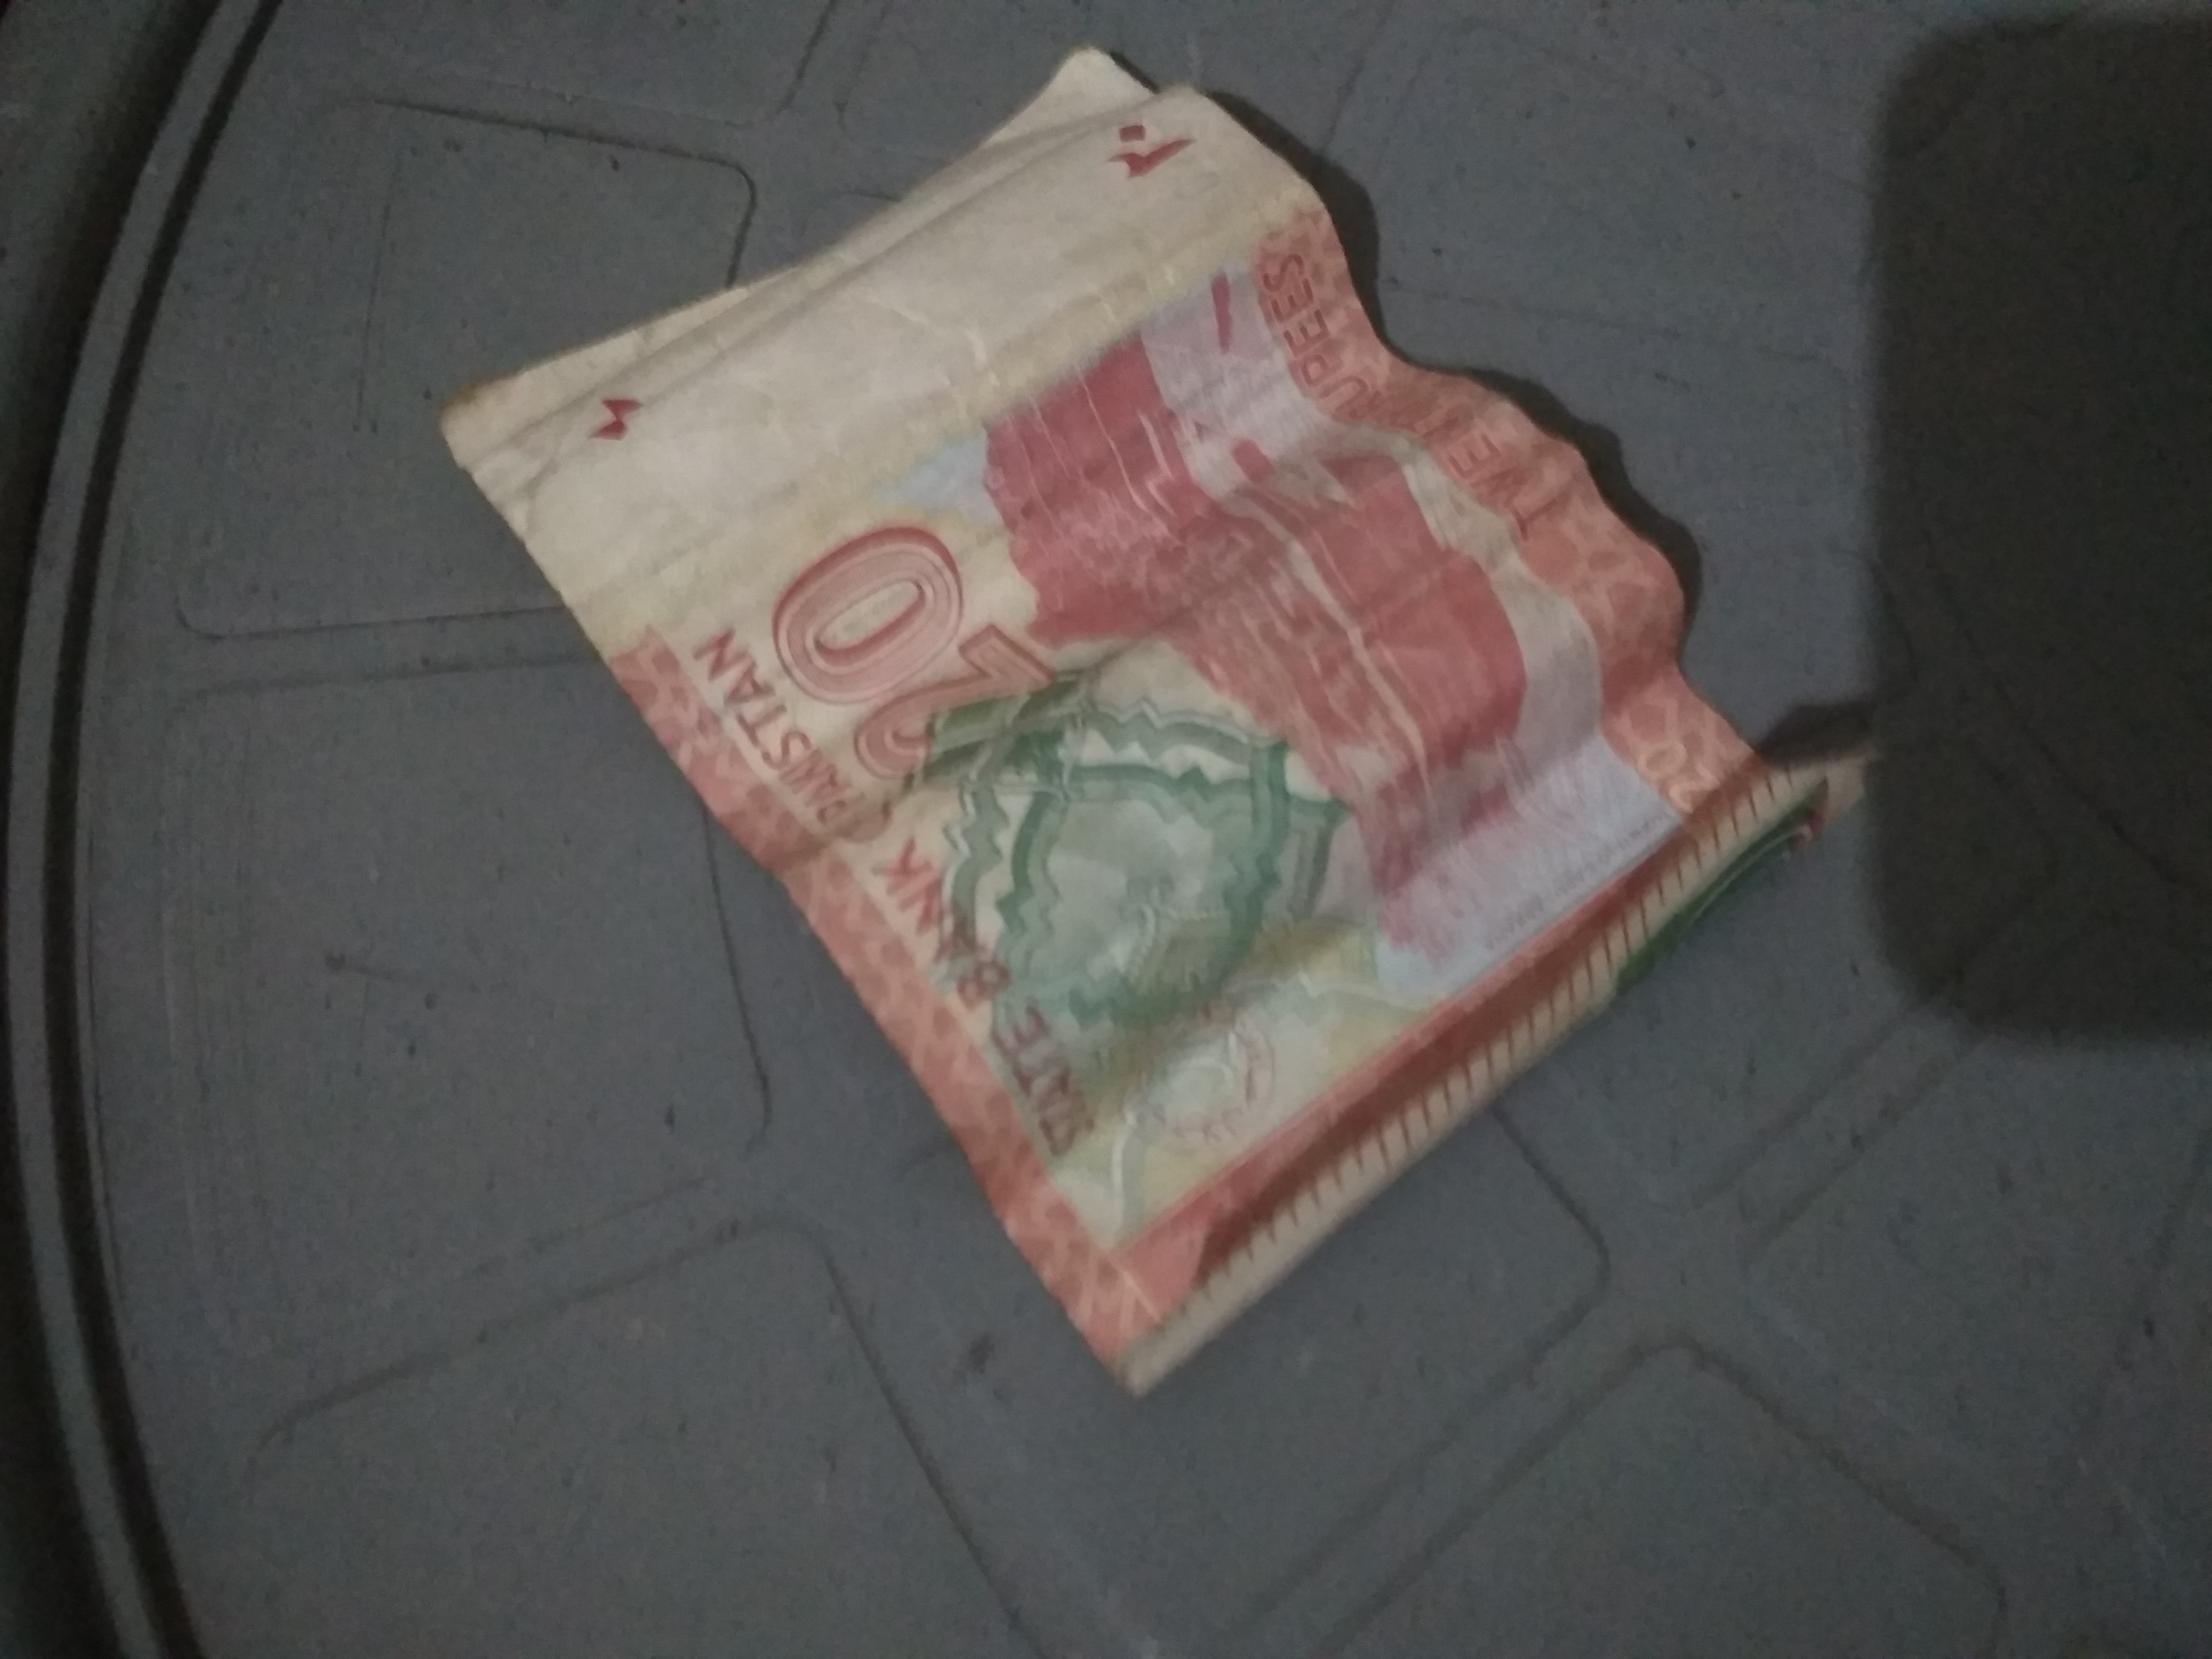20 rupee: (456, 54, 1876, 1425)
